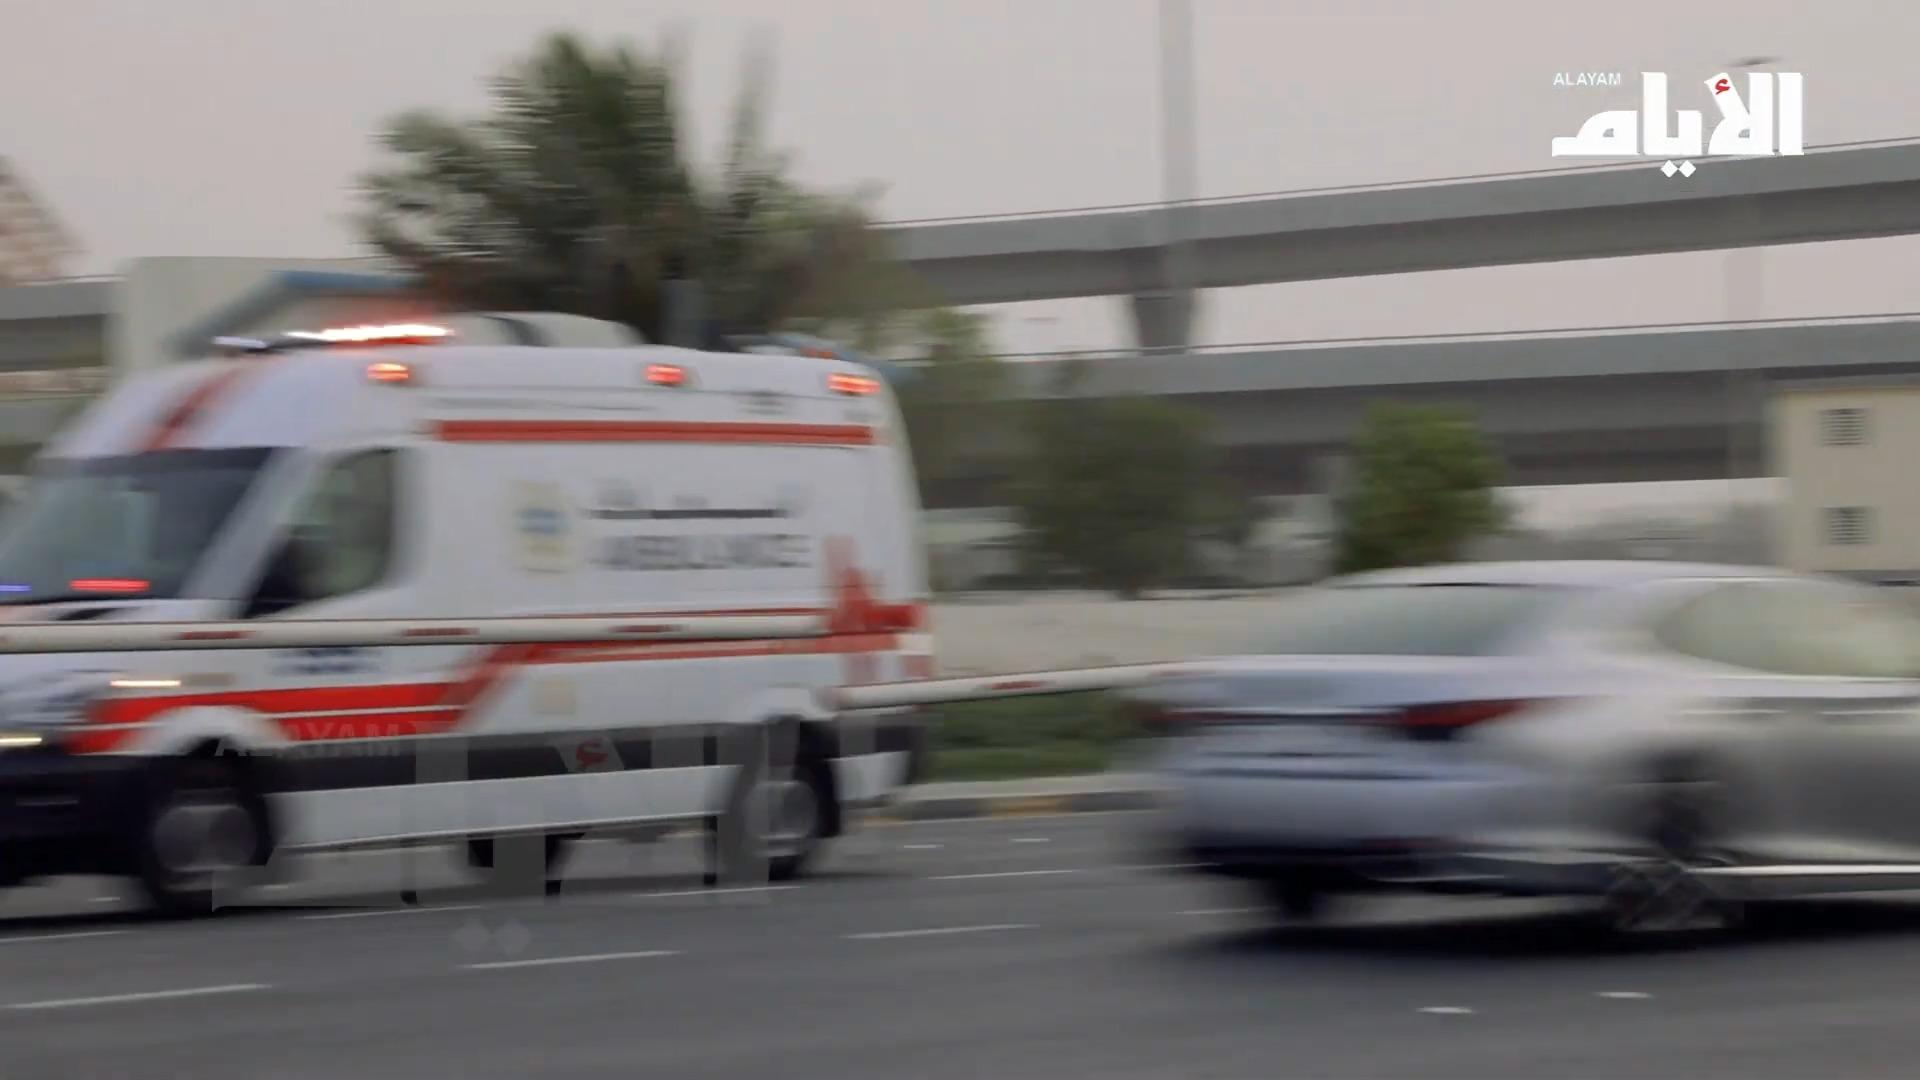ambulance_on: (0, 306, 930, 914)
